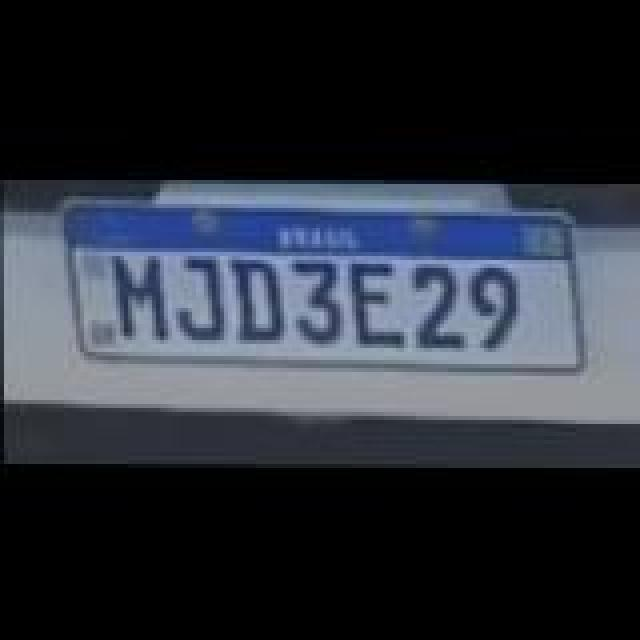2: (404, 258, 472, 346)
3: (286, 254, 358, 342)
9: (466, 260, 530, 344)
D: (222, 254, 294, 342)
E: (344, 258, 412, 346)
J: (166, 250, 238, 338)
M: (104, 248, 180, 336)
